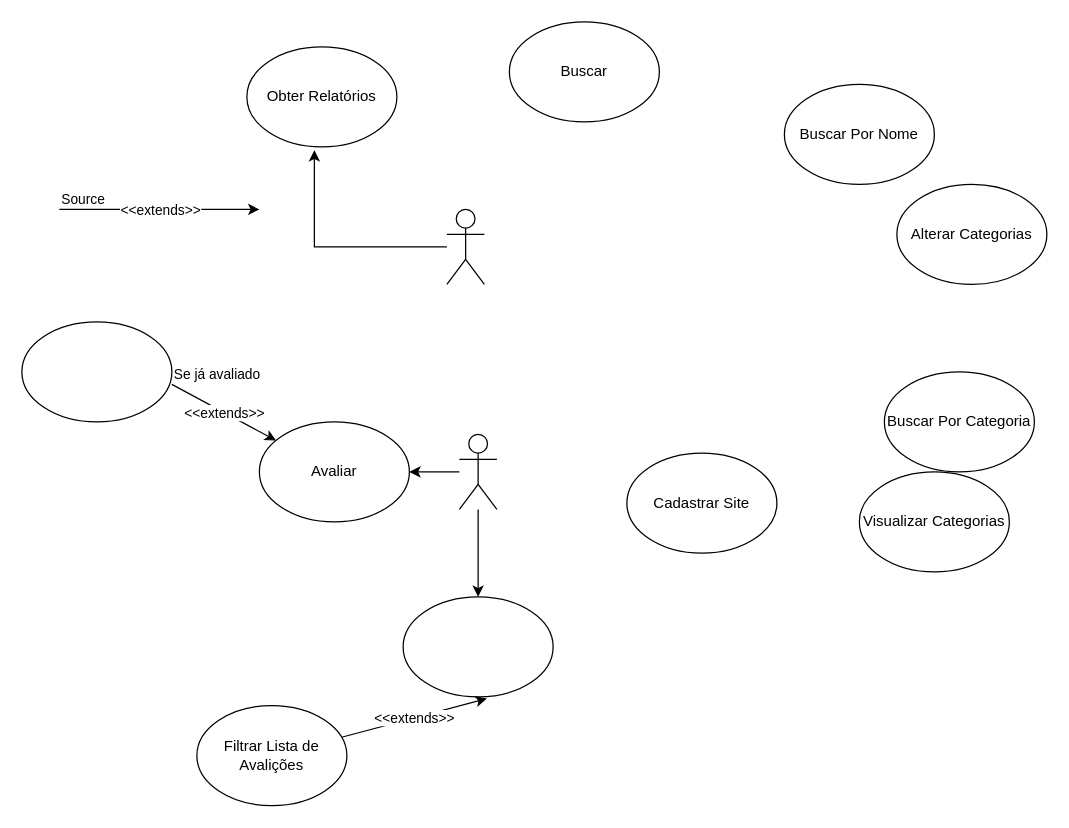
Some shapes in this 1069 by 828 pixel diagram are drawn without their labels. Each missing label, with the centre of its shape:
"Adminstrador" goes at [465,246].
"Editar Avaliação" goes at [96,371].
"Membro" goes at [477,471].
"Visualizar Lista de Avaliações" goes at [477,646].
